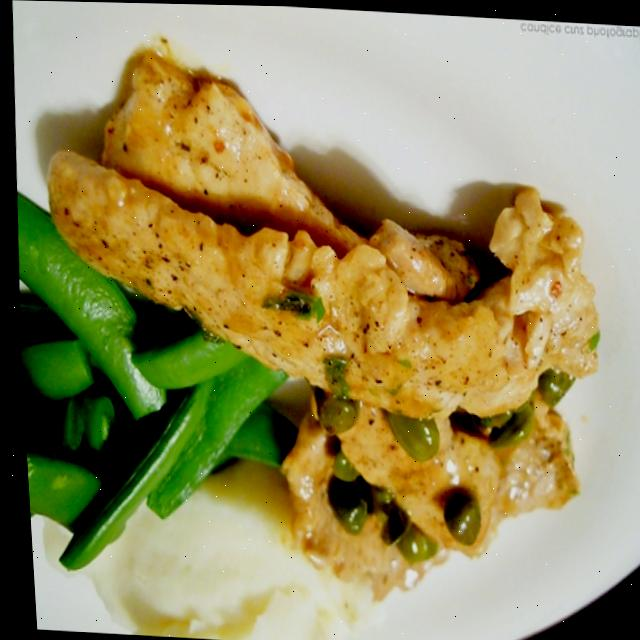猪肉菜式: (12, 27, 640, 634)
